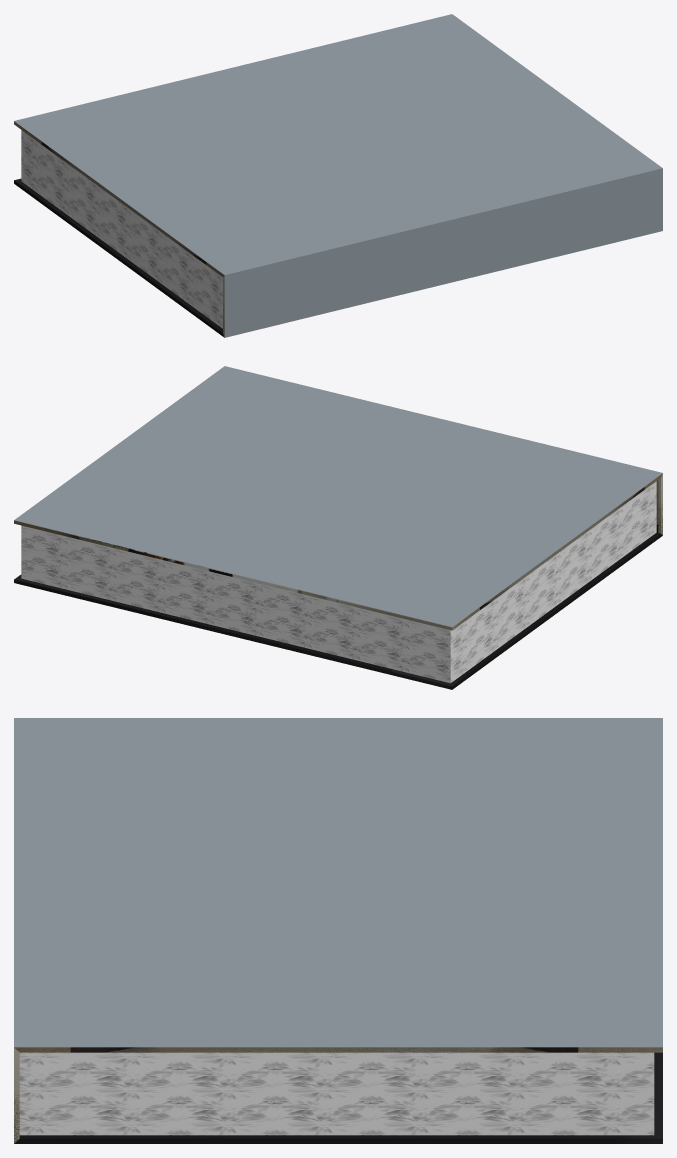
File: Book-3.fbx
The picture shows the model from 3 angles, top to bottom: view 1: azimuth 30°, elevation 25°; view 2: azimuth 150°, elevation 25°; view 3: azimuth 270°, elevation 25°; orthographic projection. The views are drawn at different scales.
Visible parts, largest first — view 1: Group1; view 2: Group1; view 3: Group1.
Boxes of the visible parts, box(x1,y1,x2,y2) form: Group1: box(14, 14, 662, 337); Group1: box(14, 366, 662, 689); Group1: box(14, 718, 662, 1143).
Size of the model in its own units: 32.44 by 4.44 by 27.01.
